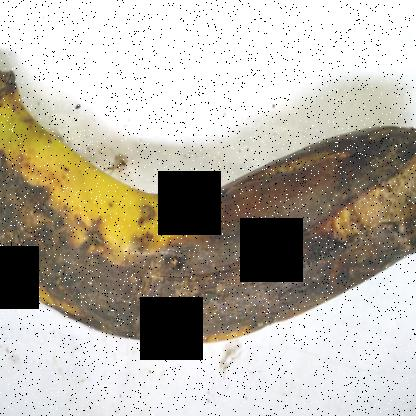rotten: (0, 86, 415, 379)
